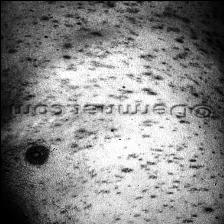Non-Cancerous Skin Condition: (0, 117, 224, 224), (15, 0, 217, 90)
